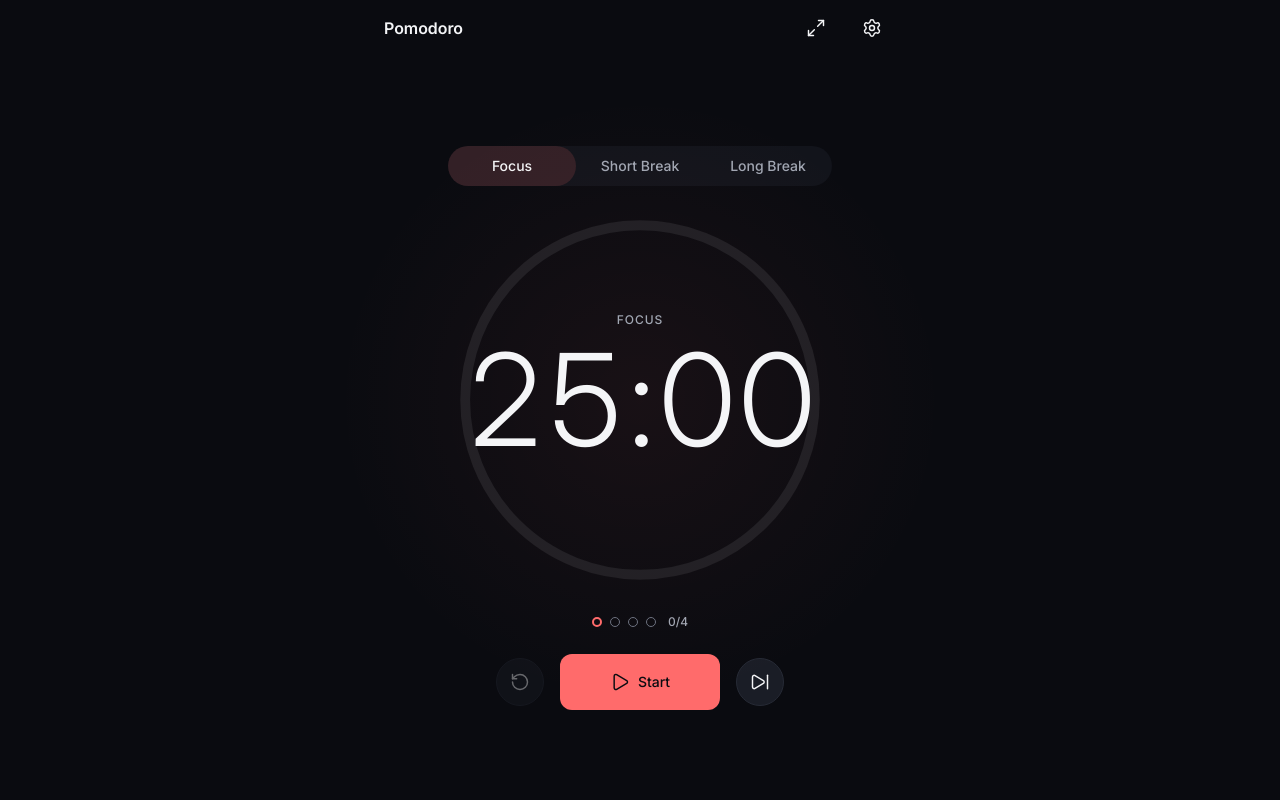
Test case: SettingsSheet (POMO-AC11-POMO-AC13, POMO-AC24, POMO-AC26) › opens with saved values and focus in the Focus field
Click the button named "Open settings". click: (872, 28)
box: 848,4 -> 896,52
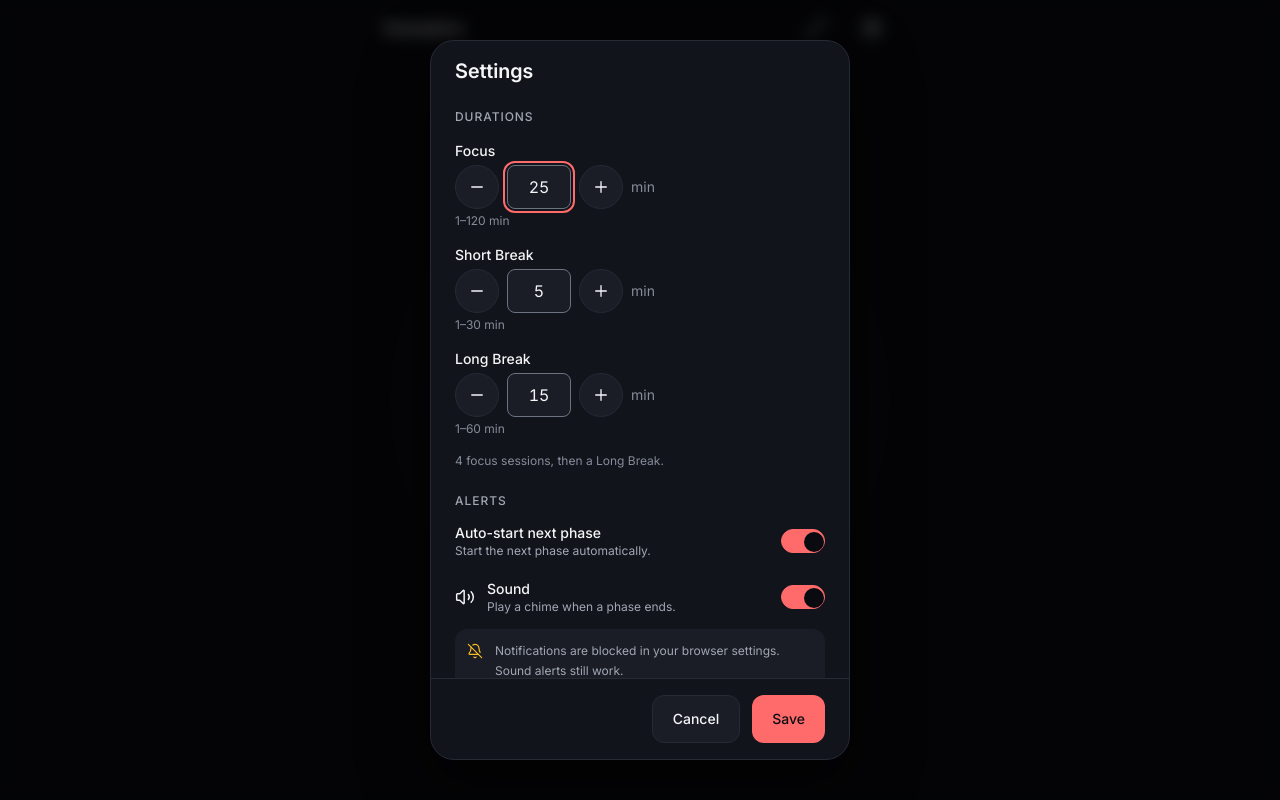
Expected: the field labelled "Focus" holds "25", 507,165 -> 571,209
Expected: the field labelled "Short Break" holds "5", 507,269 -> 571,313
Expected: the field labelled "Long Break" holds "15", 507,373 -> 571,417
